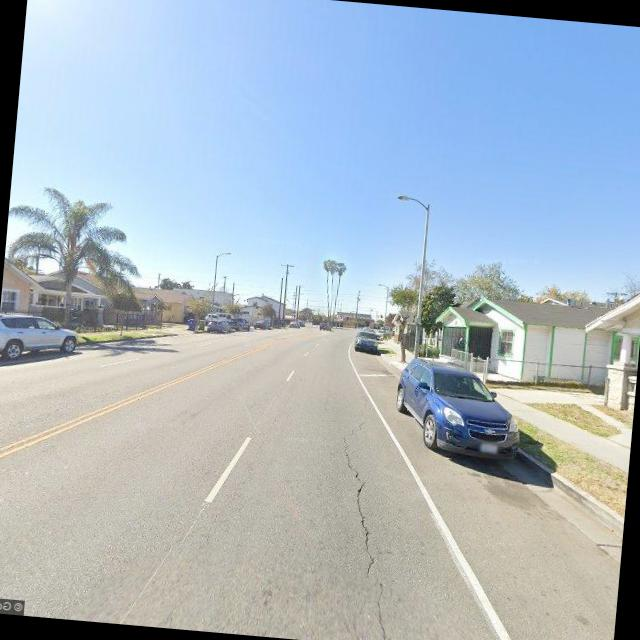pothole: (326, 422, 419, 640)
